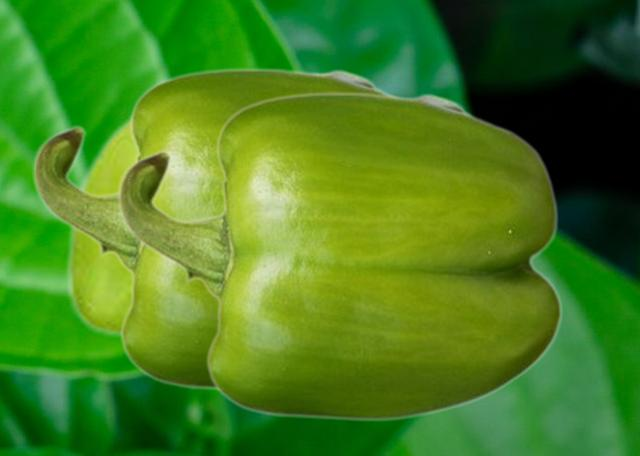bell_pepper: (117, 91, 562, 421), (32, 67, 392, 393), (64, 69, 349, 352)
